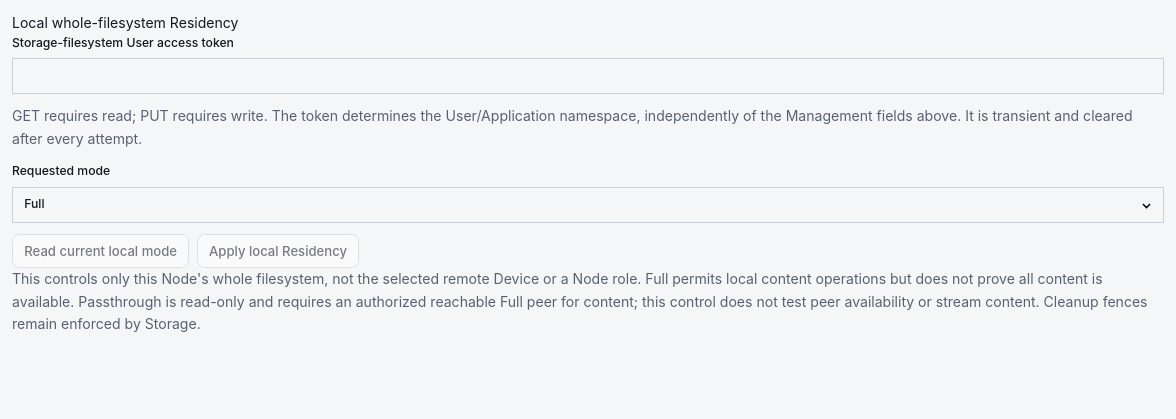
it: drives passthrough Apply through pending, cleanup error and acknowledgement
Select "Passthrough" in the dropdown labelled "Requested mode" at (588, 205), box [12, 187, 1164, 223]
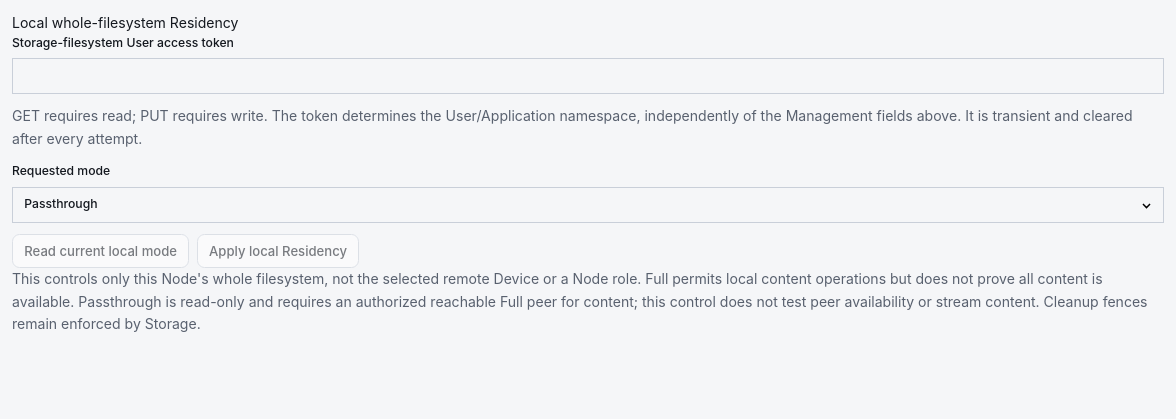
Type "current-filesystem-token" into the password field labelled "Storage-filesystem User access token".
click(588, 76); type("current-filesystem-token")  # box [12, 58, 1164, 94]
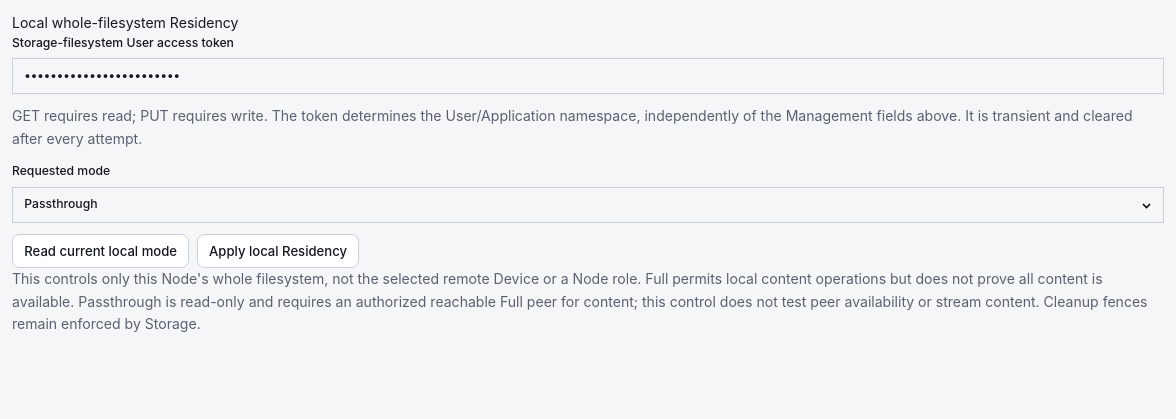
Click the button "Apply local Residency".
click(278, 251)  # box [197, 234, 359, 268]
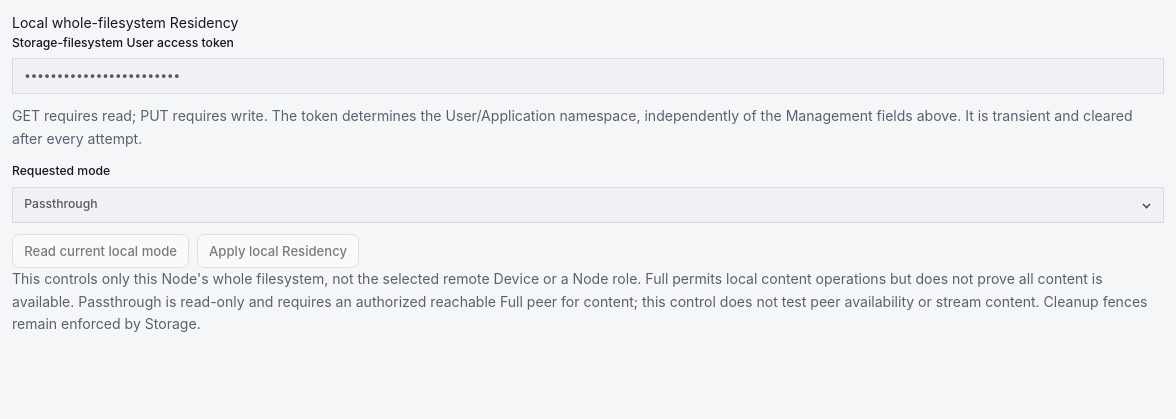
Expected: the element that starts with "Local whole-filesystem Residency" is disabled, [12, 12, 1164, 268]
Click the button "Apply local Residency".
click(278, 251)  # box [197, 234, 359, 268]
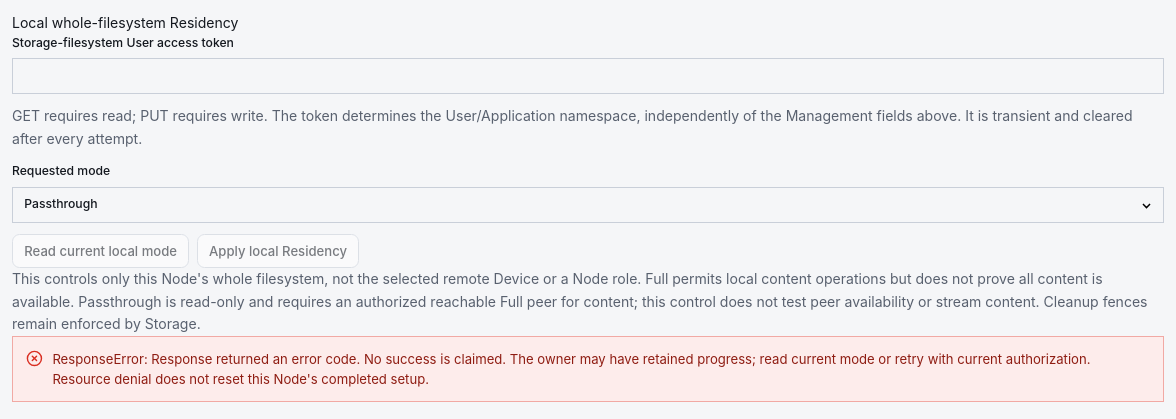
Expected: the message shows "No success is claimed", [52, 351, 1090, 387]
Expected: the text "Resource denial does not reset this Node's completed setup." is shown, [52, 351, 1090, 387]
Expected: the element that starts with "Local whole-filesystem Residency" is enabled, [12, 12, 1164, 268]
Type "fresh-filesystem-token" into the password field labelled "Storage-filesystem User access token".
click(588, 76); type("fresh-filesystem-token")  # box [12, 58, 1164, 94]
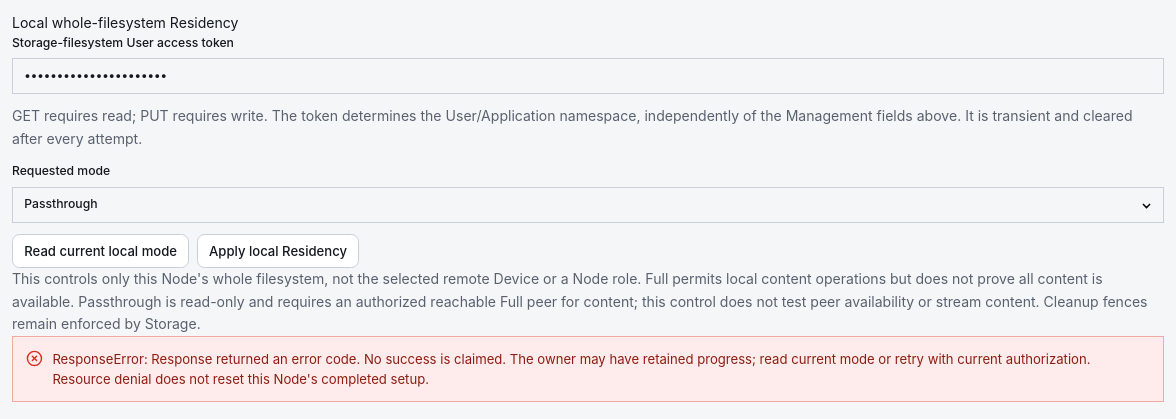
Click the button "Apply local Residency".
click(278, 251)  # box [197, 234, 359, 268]
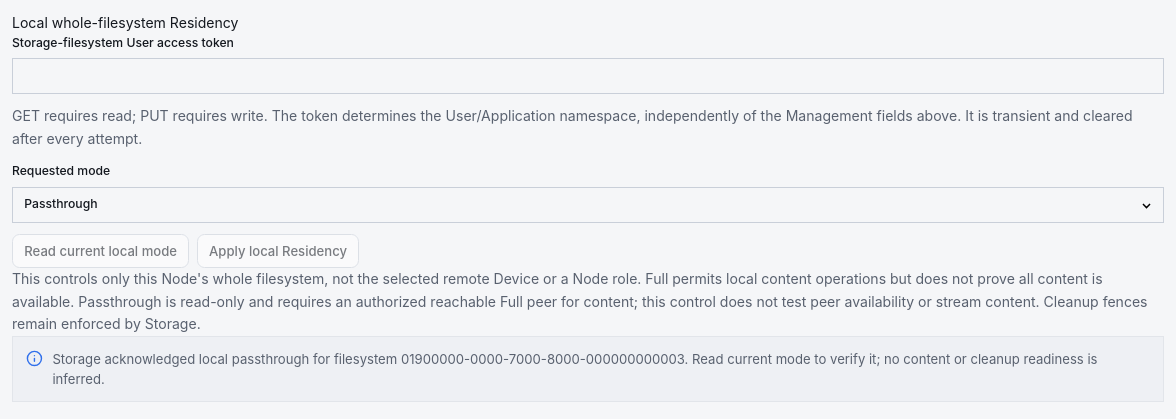
Expected: the text "no content or cleanup readiness is inferred." is shown, [52, 351, 1098, 387]
Expected: the password field labelled "Storage-filesystem User access token" is empty, [12, 58, 1164, 94]
Expected: the button "Apply local Residency" is disabled, [197, 234, 359, 268]
